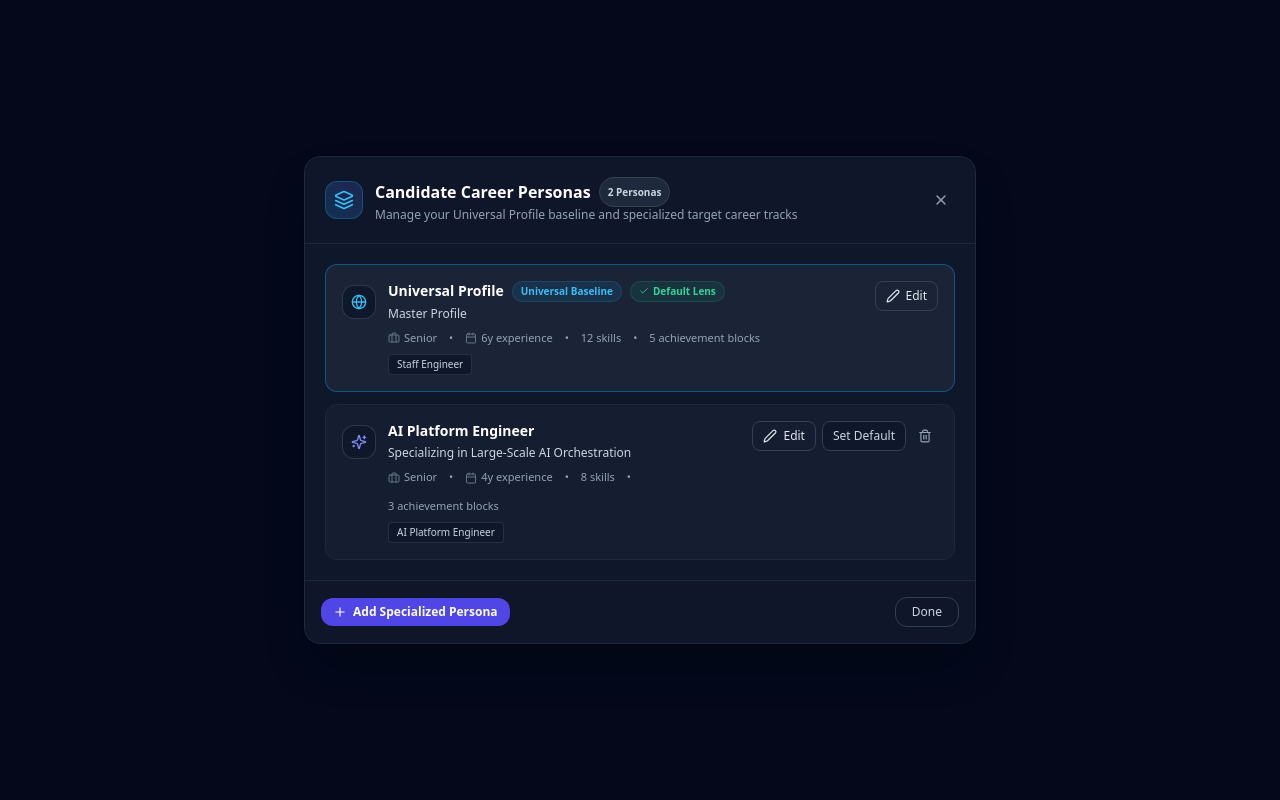
PersonaManagementModal Component › disables name input when editing Universal Persona
What coordinates should you click on to do the following:
click the button with test id "edit-persona-btn-p-universal"
I would click on:
 (906, 296)
Its box is [874,281,938,311].
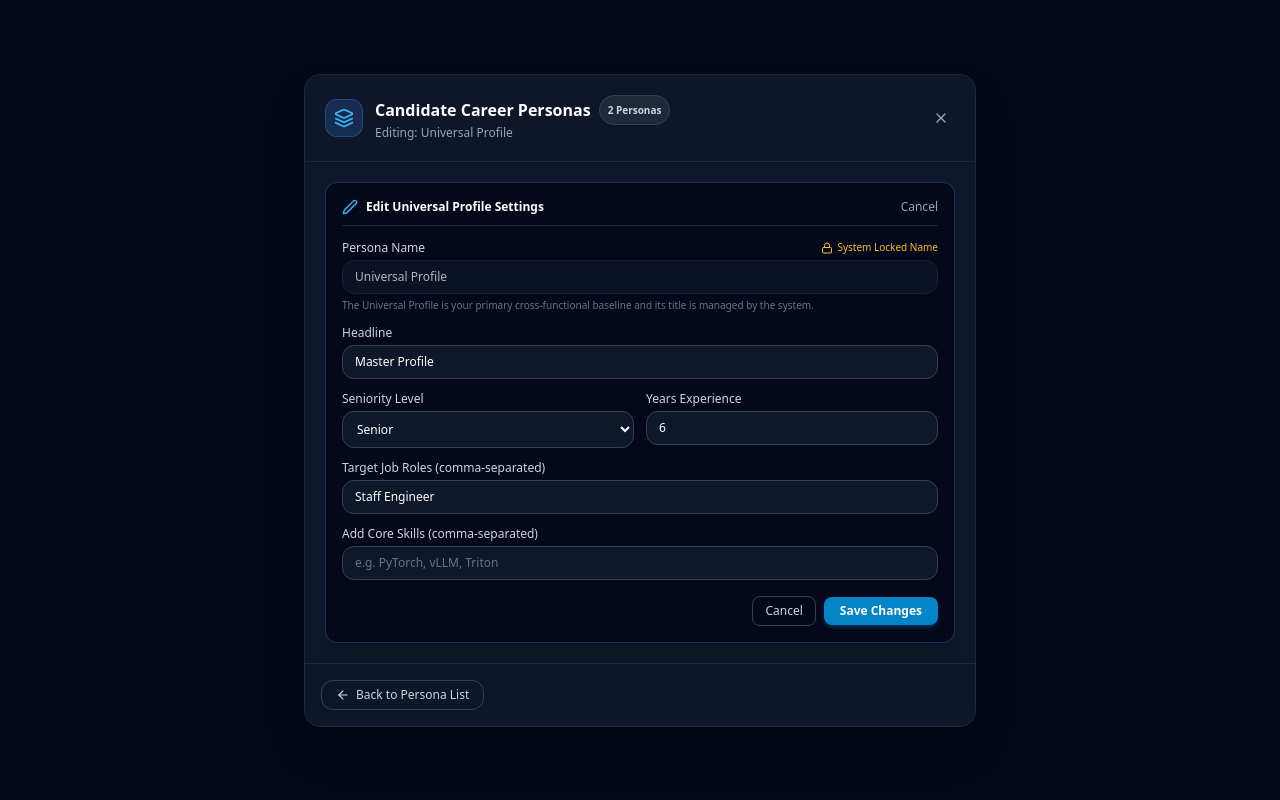
expect the element with test id "edit-persona-form" is shown: met, box [325,182,955,642]
expect the text "System Locked Name" is shown: met, box [821,240,938,255]
expect the field with test id "edit-persona-name-input" is disabled: met, box [342,260,938,294]
